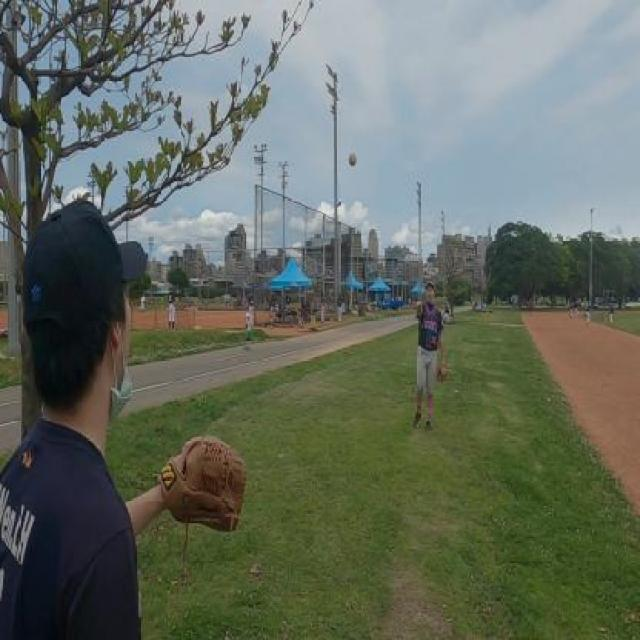baseball: (349, 151, 356, 167)
